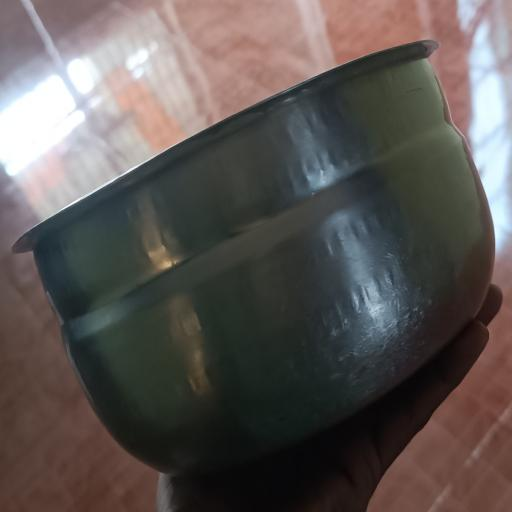vessel: (14, 41, 494, 471)
